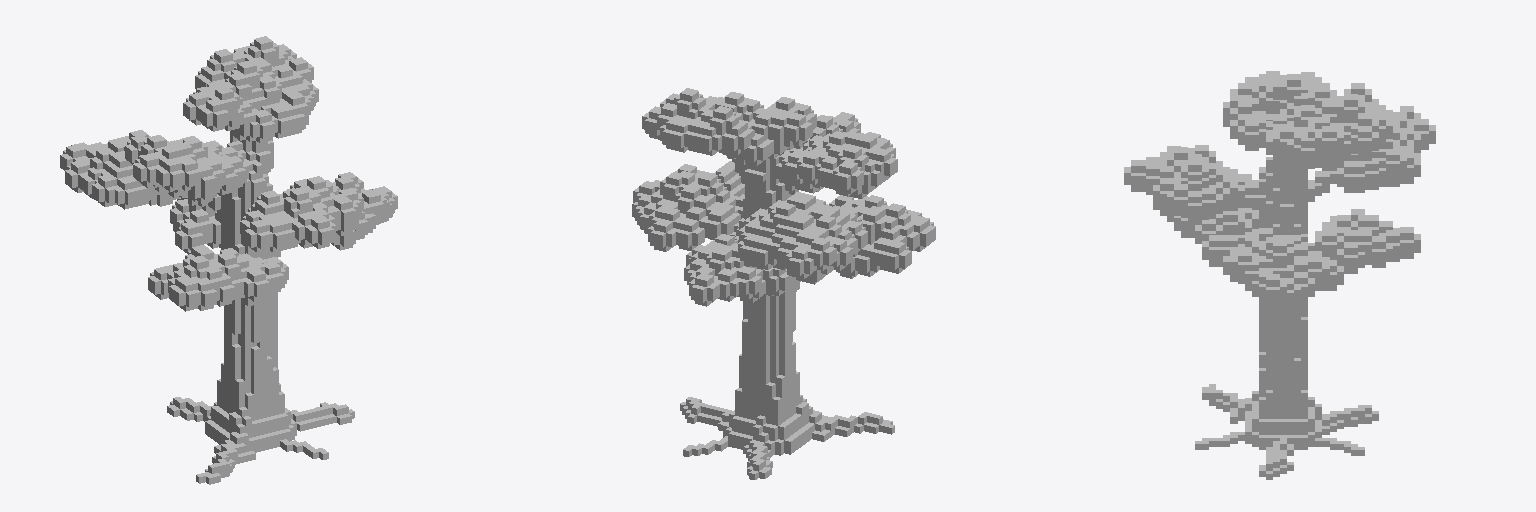
The model's file is Tree.obj.
3 views of the same model, side by side, from view 1: azimuth 30°, elevation 25°; view 2: azimuth 150°, elevation 25°; view 3: azimuth 270°, elevation 25° (orthographic).
Parts seen in each view (by area): view 1: object 1; view 2: object 1; view 3: object 1.
Part boxes in pixels (x1,y1,x2,y2): object 1: (60,36,397,484); object 1: (632,88,935,479); object 1: (1124,71,1435,479).
Bounding box in the file's own units: 4.4 × 5.6 × 4.4.